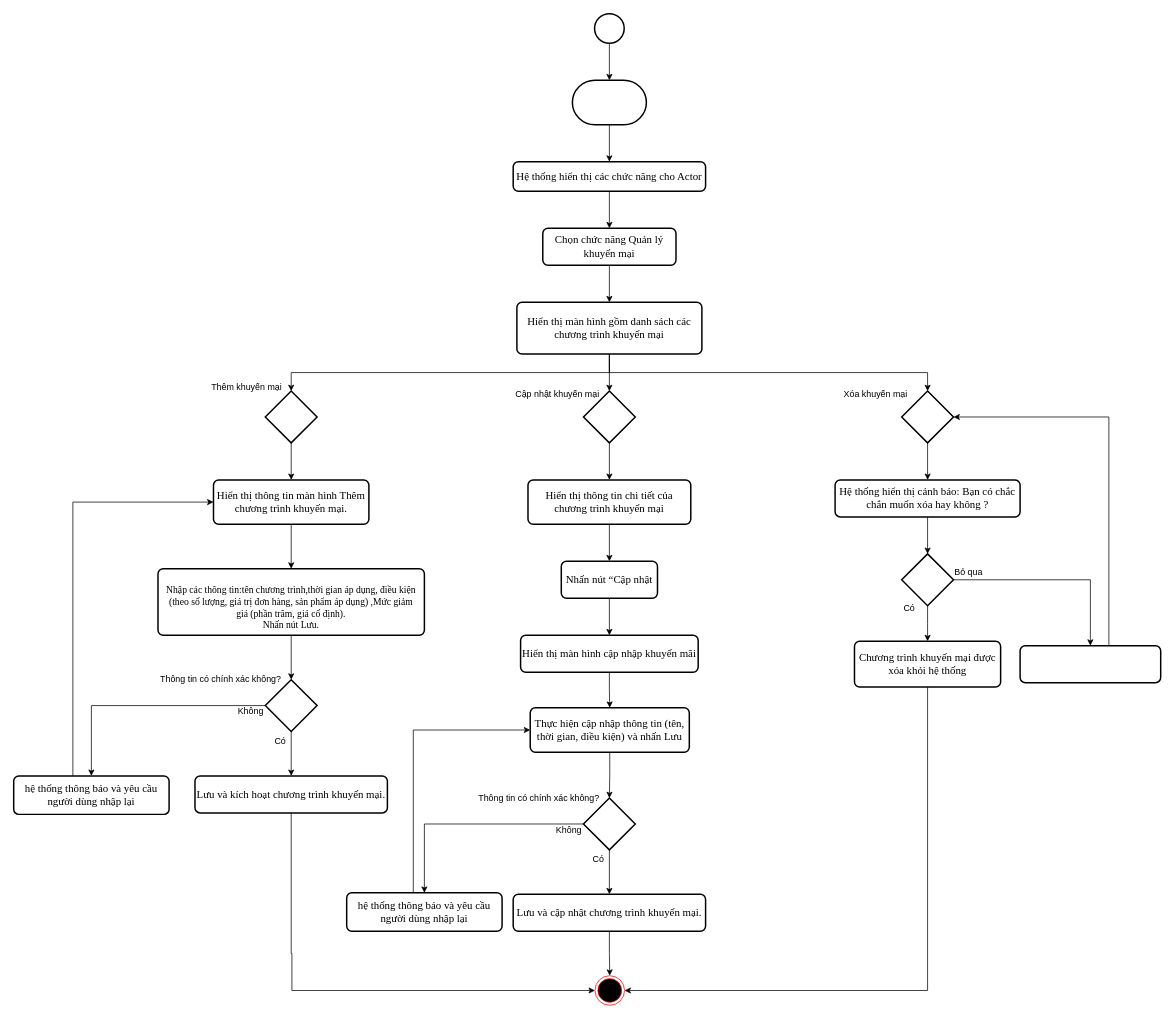
This 1174x1018 diagram has some shape labels left out. Here are the shapes that lost their labels. From the top down, the centre of each, then its label:
point (609, 102): Đăng nhập
point (1090, 664): Hủy xóa khuyến mại
